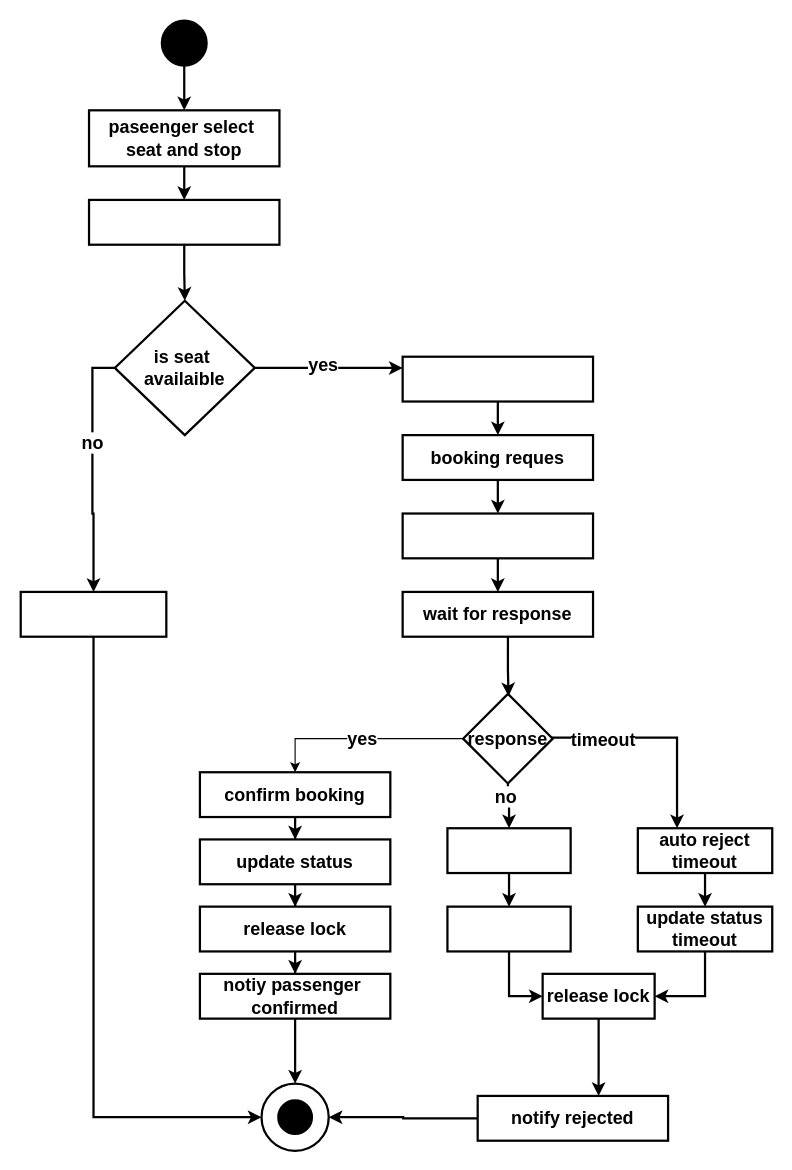
Some shapes in this 792 by 1170 pixel diagram are drawn without their labels. Here are the shapes that lost their labels. From the top down, the centre of each, then its label:
(x=183, y=221): check avaialiabilty
(x=497, y=378): lock seat temproraily
(x=497, y=535): notify driver
(x=93, y=613): notify seat unavailable
(x=508, y=850): reject booking
(x=508, y=928): update status rejected
